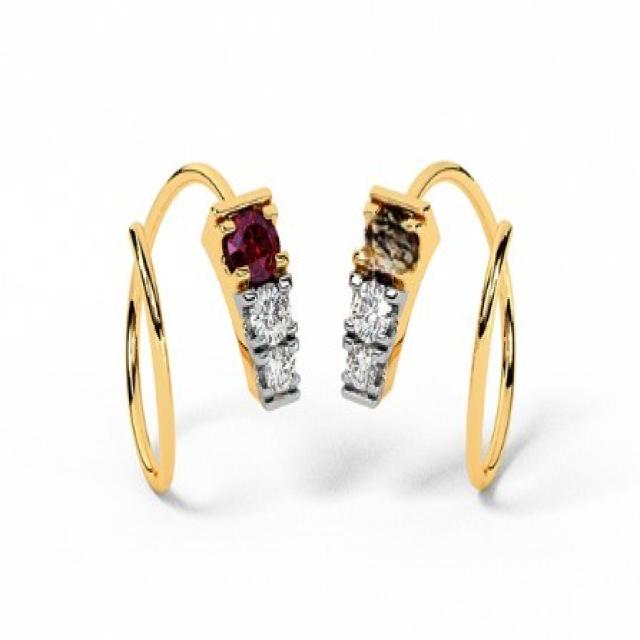missing gem: (356, 197, 425, 274)
